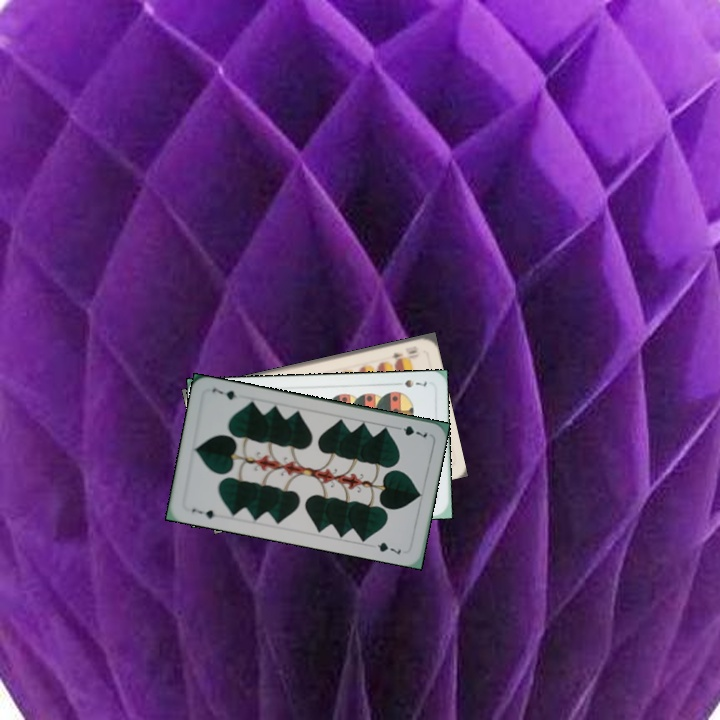E10: (388, 342, 421, 364)
G7: (391, 421, 430, 440), (188, 504, 218, 521)
S7: (400, 376, 429, 390)
